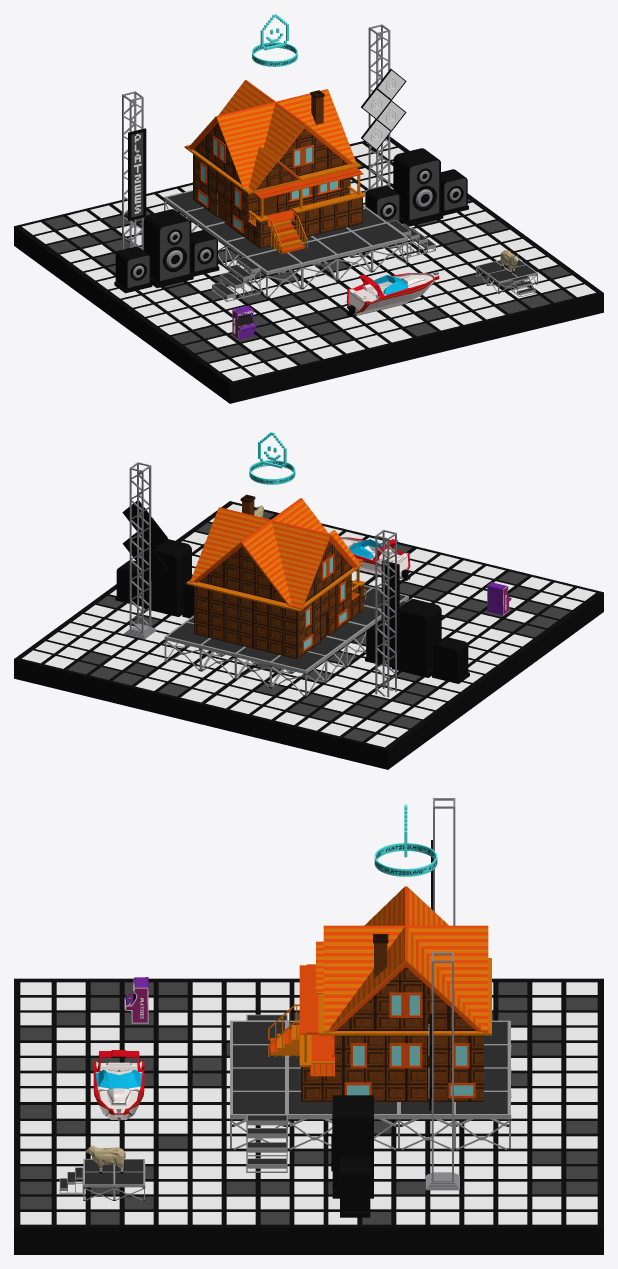
3 renders of one model, top to bottom at view 1: azimuth 30°, elevation 25°; view 2: azimuth 150°, elevation 25°; view 3: azimuth 270°, elevation 25°, orthographic. The views are drawn at different scales.
Parts seen in each view (by area): view 1: Cube.008, Cube, VEHICLES_BOAT, TYPE_PREMIUM, OBJRANDOM_ARCADE; view 2: Cube.008, Cube, VEHICLES_BOAT, TYPE_PREMIUM, OBJRANDOM_ARCADE; view 3: Cube.008, Cube, VEHICLES_BOAT, TYPE_PREMIUM, OBJRANDOM_ARCADE, ANIMAL_OVEJA.
Part boxes in pixels (<box>): Cube.008: <box>14,24,603,403</box>; Cube: <box>184,80,365,254</box>; VEHICLES_BOAT: <box>346,272,439,316</box>; TYPE_PREMIUM: <box>252,14,297,66</box>; OBJRANDOM_ARCADE: <box>232,305,256,339</box>; Cube.008: <box>14,462,603,769</box>; Cube: <box>186,494,366,658</box>; VEHICLES_BOAT: <box>340,537,410,580</box>; TYPE_PREMIUM: <box>249,432,295,484</box>; OBJRANDOM_ARCADE: <box>487,582,511,615</box>; Cube.008: <box>14,798,603,1254</box>; Cube: <box>268,886,491,1101</box>; VEHICLES_BOAT: <box>93,1050,144,1121</box>; TYPE_PREMIUM: <box>374,804,437,876</box>; OBJRANDOM_ARCADE: <box>125,977,148,1023</box>; ANIMAL_OVEJA: <box>85,1145,125,1173</box>.
Bounding box in the file's own units: 4000 × 2534 × 4000.
42 materials, 4 textured.
